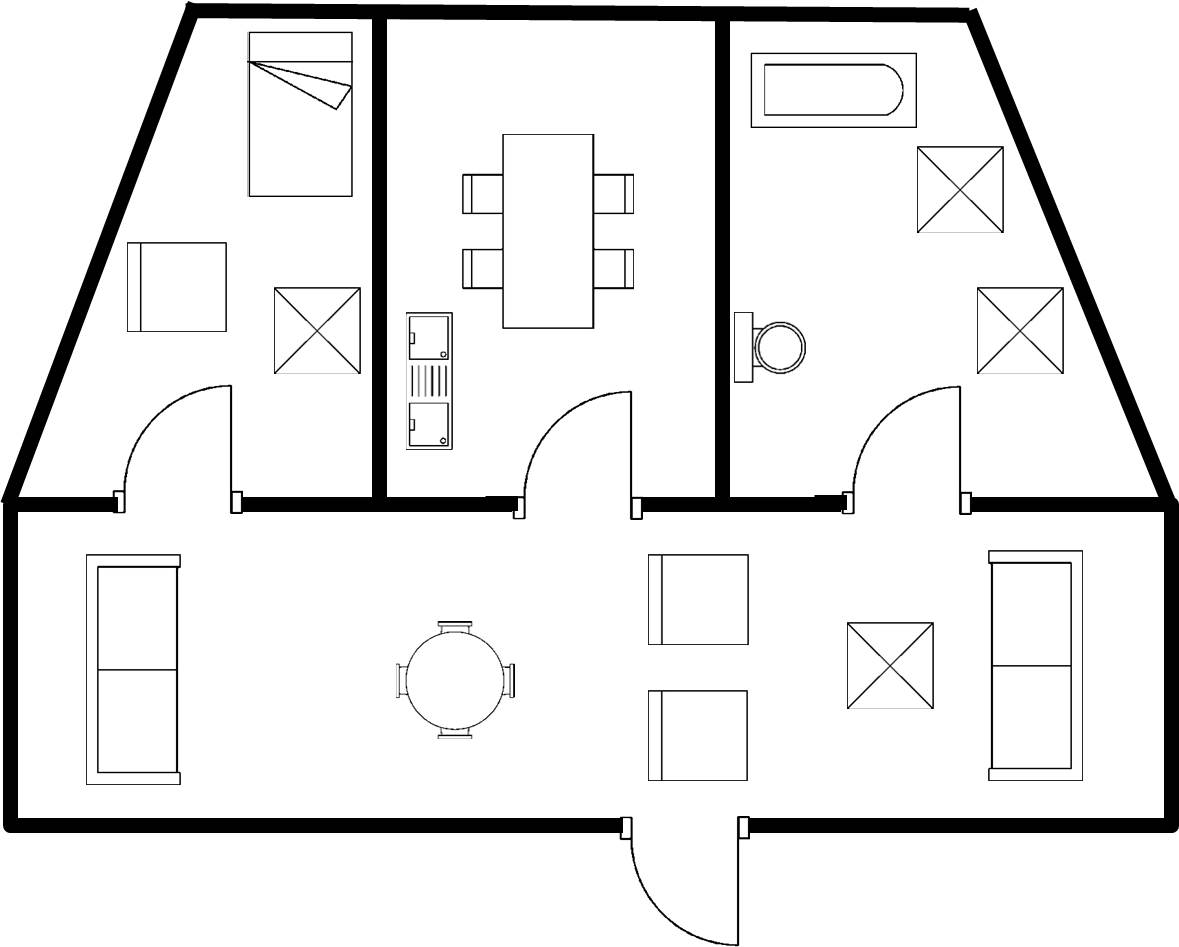bed: (241, 26, 361, 203)
coffee_table: (836, 614, 942, 715), (971, 279, 1071, 384), (909, 140, 1010, 242), (268, 281, 367, 381)
dining_table: (454, 125, 642, 341)
large_sink: (728, 301, 817, 395)
large_sofa: (978, 544, 1091, 788), (77, 545, 188, 793)
round_table: (387, 612, 526, 744)
small_sofa: (636, 547, 763, 655), (638, 682, 760, 790), (120, 234, 234, 339)
tub: (741, 45, 925, 137)
twin_sink: (400, 306, 462, 462)
